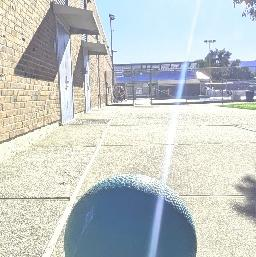algae: (66, 174, 201, 257)
